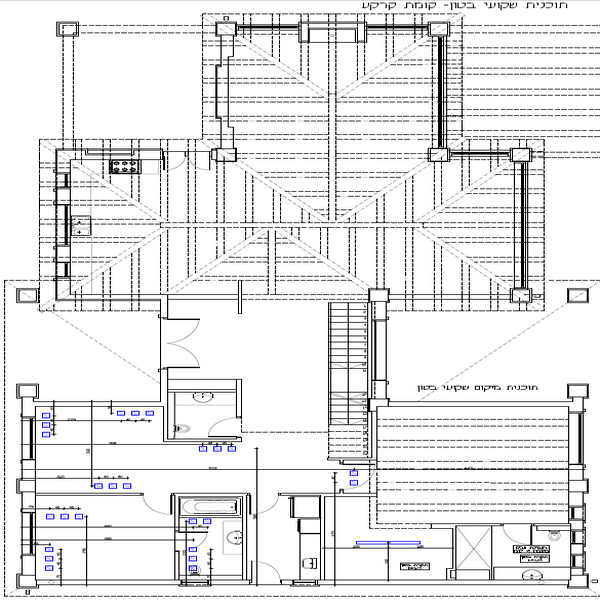door: (158, 316, 202, 374), (160, 149, 215, 178), (338, 457, 382, 491), (246, 556, 282, 588), (502, 518, 535, 551), (206, 415, 246, 442), (170, 524, 207, 550), (249, 485, 278, 518), (142, 492, 171, 524)
